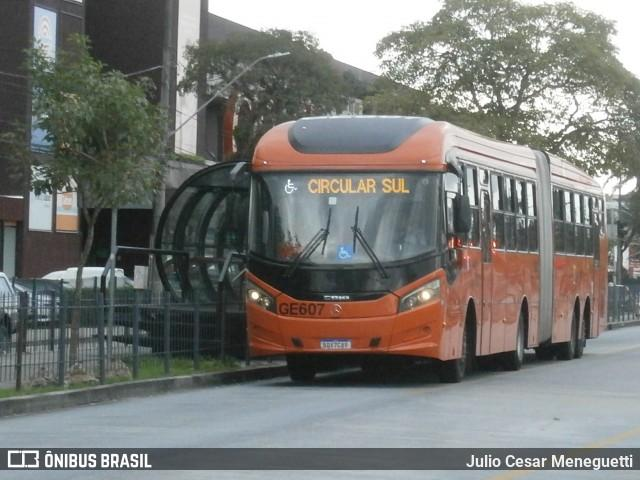CIRCULAR SUL: (301, 170, 415, 199)
